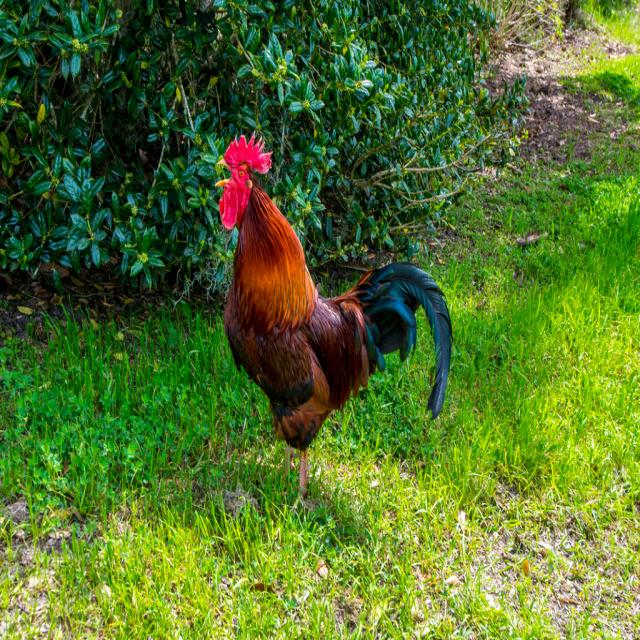Chicken: (215, 130, 456, 497)
